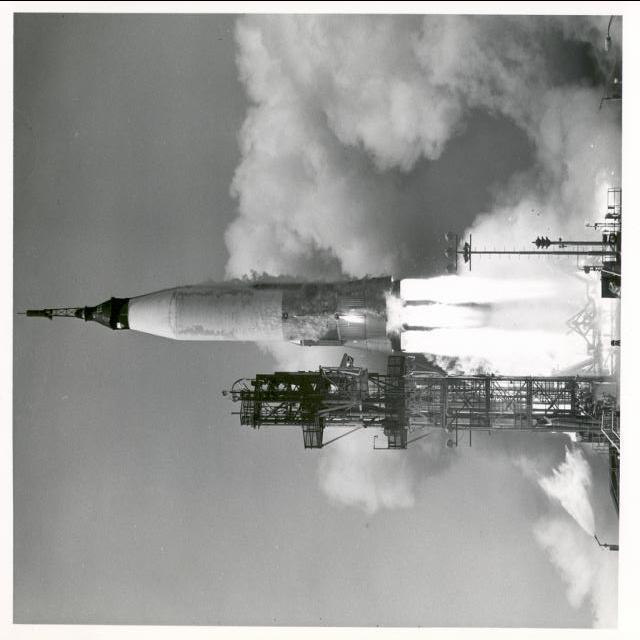missile: (20, 274, 463, 362)
